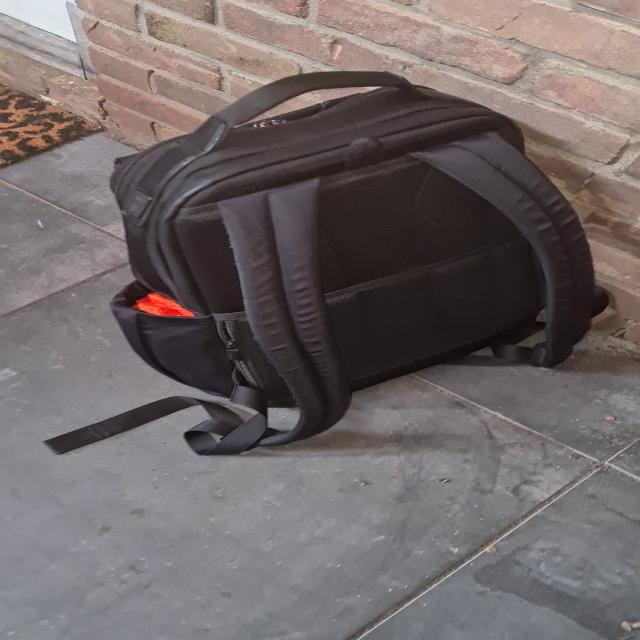backpack: (89, 58, 622, 458)
